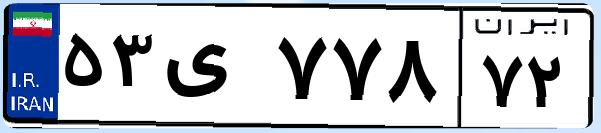2: (525, 38, 570, 115)
3: (110, 28, 158, 98)
5: (57, 26, 110, 100)
7: (270, 28, 330, 110), (330, 28, 385, 110), (475, 38, 525, 113)
8: (385, 28, 445, 110)
ی: (158, 20, 270, 120)
